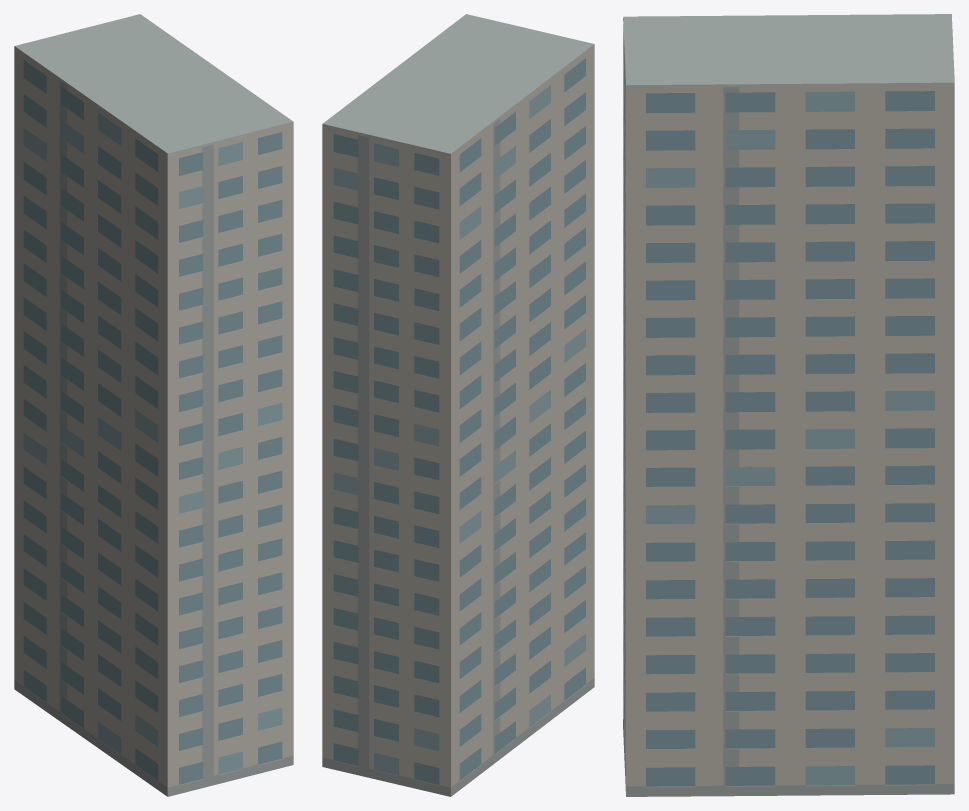
The model's file is residential-0891cb29-add9-4a72-9f45-70ecd7859bf3.glb.
3 views of the same model, side by side, from view 1: azimuth 30°, elevation 25°; view 2: azimuth 150°, elevation 25°; view 3: azimuth 270°, elevation 25° (orthographic). The views are drawn at different scales.
Parts seen in each view (by area): view 1: residential-0891cb29-add9-4a72-9f45-70ecd7859bf3.tmp; view 2: residential-0891cb29-add9-4a72-9f45-70ecd7859bf3.tmp; view 3: residential-0891cb29-add9-4a72-9f45-70ecd7859bf3.tmp.
Part boxes in pixels (x1,y1,x2,y2): residential-0891cb29-add9-4a72-9f45-70ecd7859bf3.tmp: (14, 14, 293, 796); residential-0891cb29-add9-4a72-9f45-70ecd7859bf3.tmp: (322, 14, 594, 796); residential-0891cb29-add9-4a72-9f45-70ecd7859bf3.tmp: (623, 14, 954, 796).
Bounding box in the file's own units: 12.66 × 59 × 24.93.
